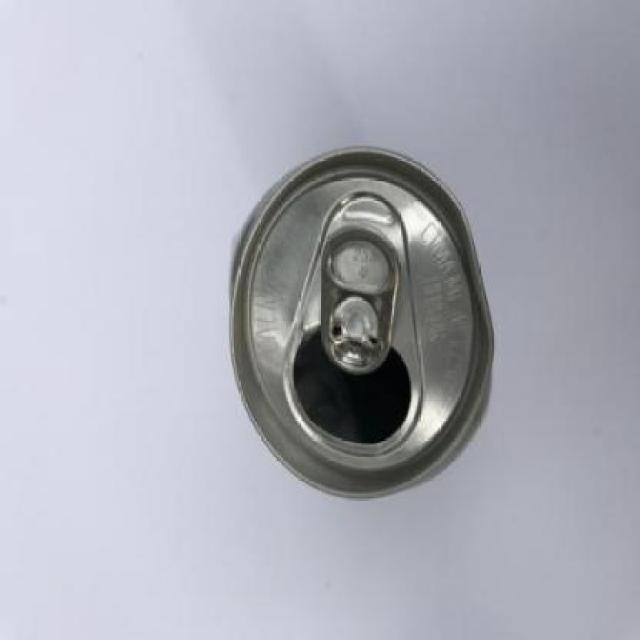METAL: (226, 144, 494, 502)
